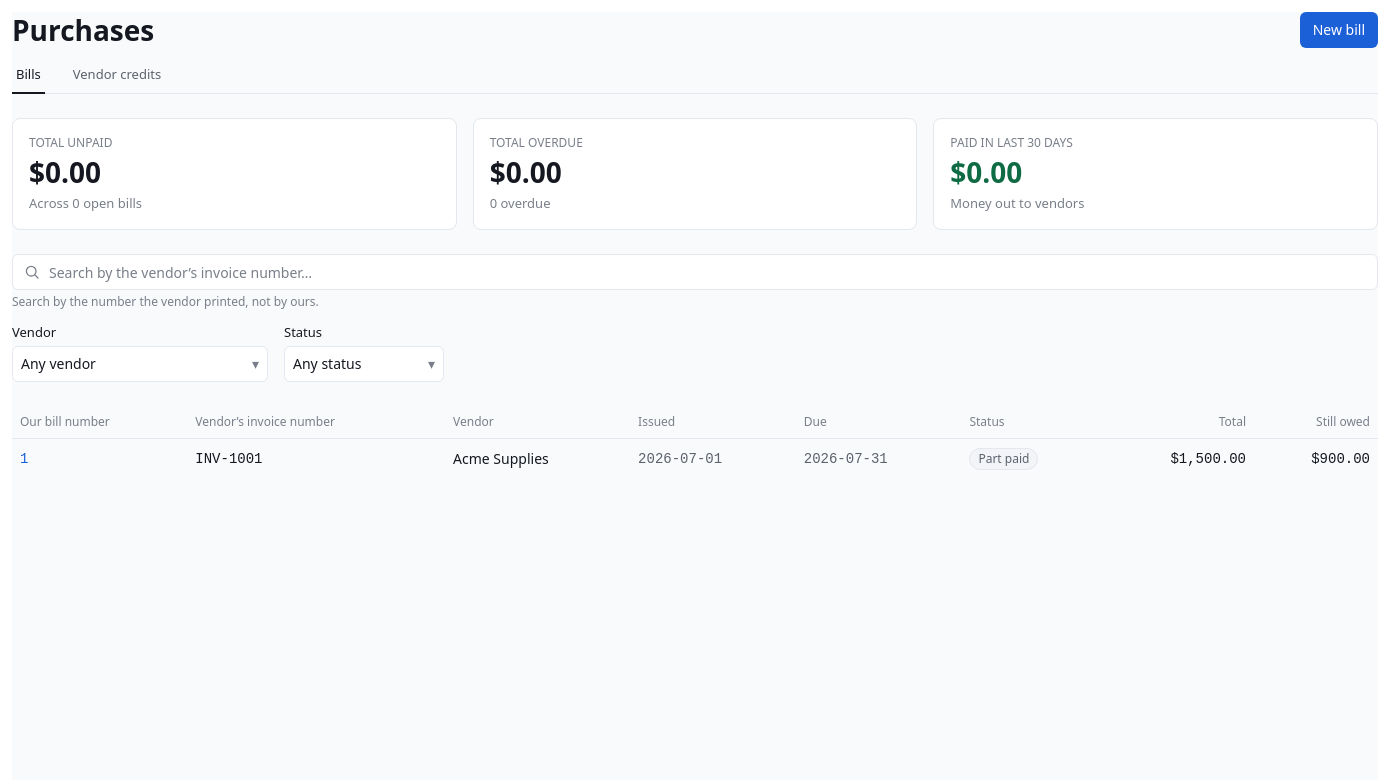
Test: the figures on screen › shows the server’s outstanding rather than one derived from allocations
What coordinates should you click on to do the following:
click the button "1"
I would click on:
 (24, 459)
Its box is [20, 448, 28, 470].
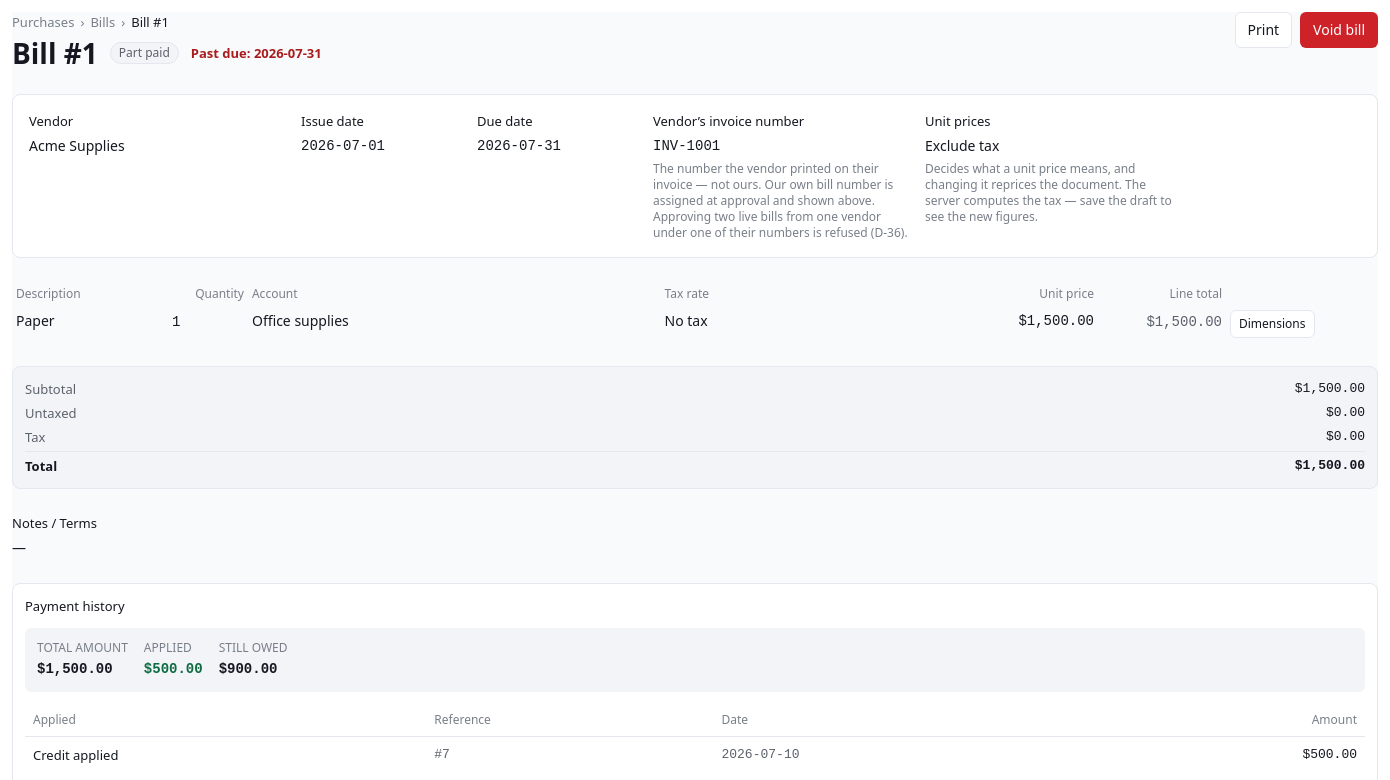
Expected: the text "$900.00" is shown, [219, 658, 288, 680]
Expected: the text "Still owed" is shown, [219, 640, 288, 656]
